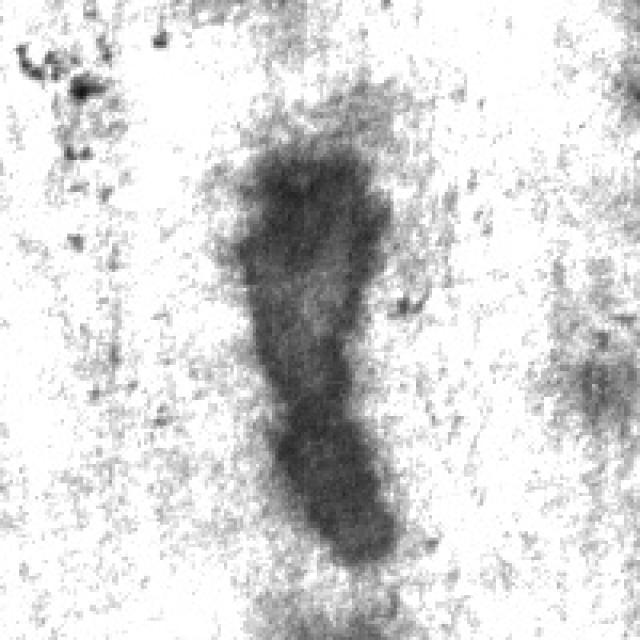patches: (224, 128, 397, 563)
